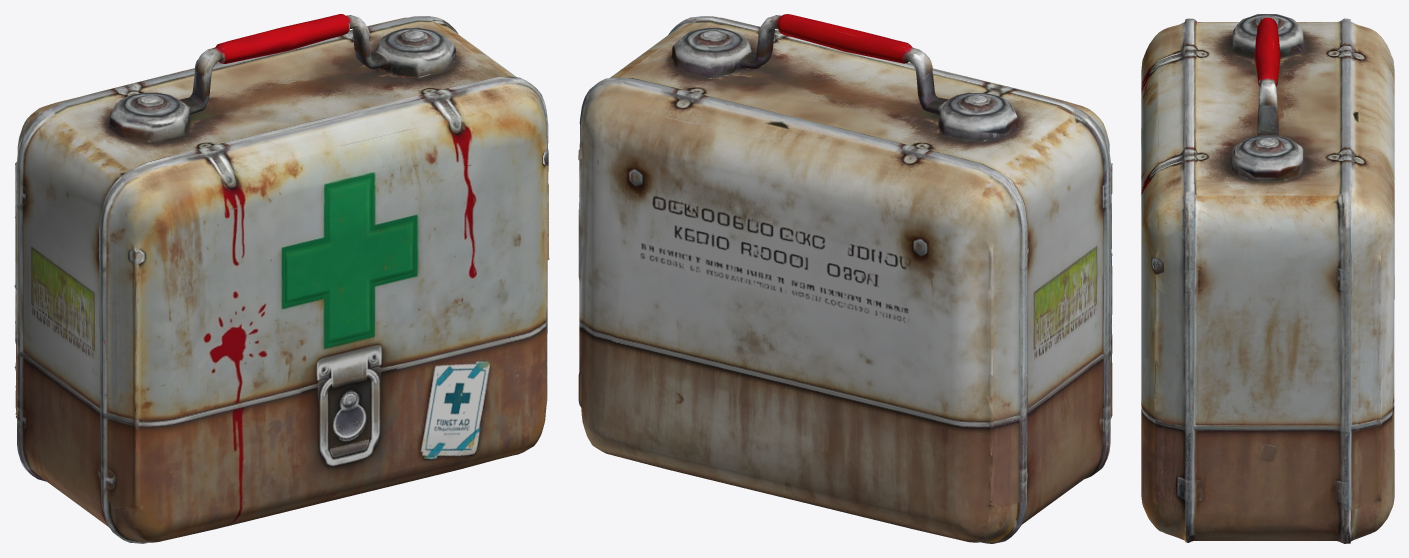
Rendered from item.obj.
3 renders of one model, left to right at view 1: azimuth 30°, elevation 25°; view 2: azimuth 150°, elevation 25°; view 3: azimuth 270°, elevation 25°, orthographic. The views are drawn at different scales.
Parts seen in each view (by area): view 1: Meshy_AI_a_battered_rusty_firs_0607235257_texture; view 2: Meshy_AI_a_battered_rusty_firs_0607235257_texture; view 3: Meshy_AI_a_battered_rusty_firs_0607235257_texture.
Part boxes in pixels (<box>): Meshy_AI_a_battered_rusty_firs_0607235257_texture: <box>14,14,549,543</box>; Meshy_AI_a_battered_rusty_firs_0607235257_texture: <box>578,14,1112,543</box>; Meshy_AI_a_battered_rusty_firs_0607235257_texture: <box>1141,14,1394,543</box>.
Size of the model in its own units: 1.92 by 1.81 by 1.01.
Materials: 1 (1 with a texture image).
